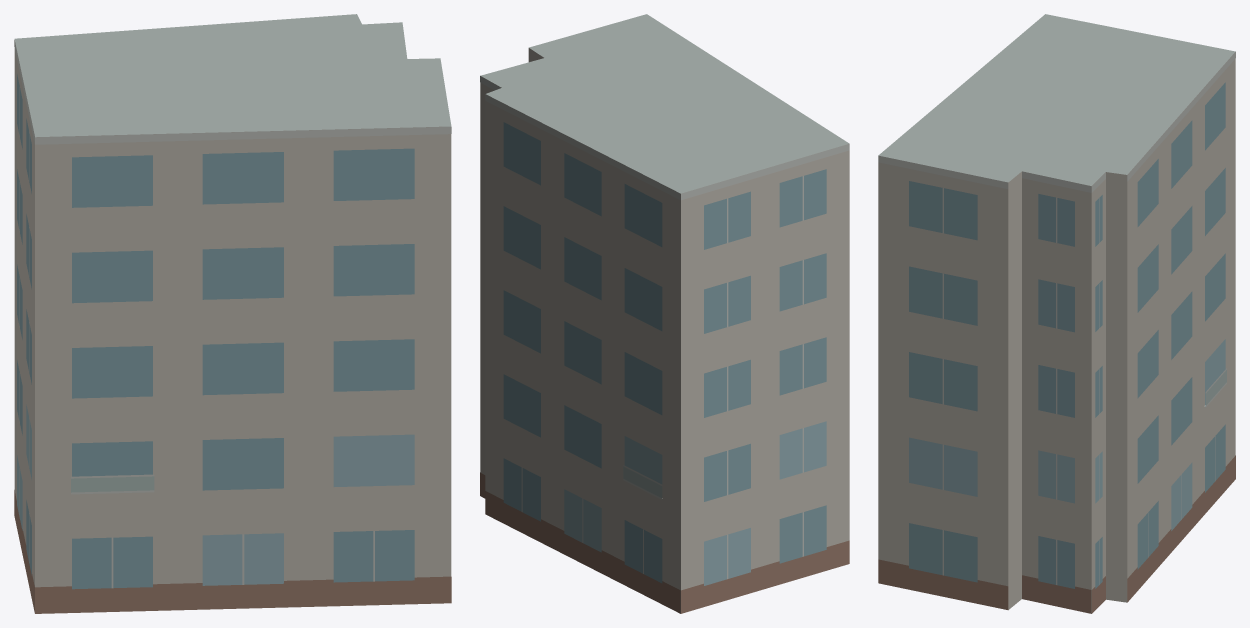
File: survey-upis-32772541.glb
3 views of the same model, side by side, from view 1: azimuth 30°, elevation 25°; view 2: azimuth 150°, elevation 25°; view 3: azimuth 270°, elevation 25° (orthographic). The views are drawn at different scales.
Visible parts, largest first — view 1: survey-upis-32772541.tmp; view 2: survey-upis-32772541.tmp; view 3: survey-upis-32772541.tmp.
Part boxes in pixels (x1,y1,x2,y2): survey-upis-32772541.tmp: (14, 14, 451, 613); survey-upis-32772541.tmp: (480, 14, 849, 613); survey-upis-32772541.tmp: (878, 14, 1235, 613).
Bounding box in the file's own units: 13.22 × 15.3 × 11.6.
